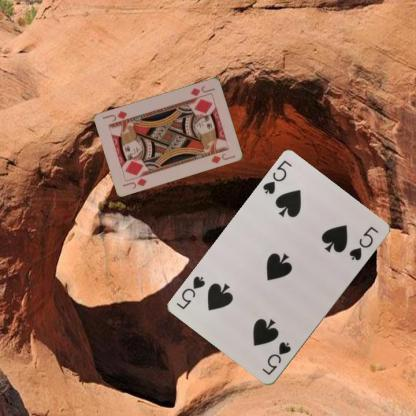5s: (260, 158, 294, 196), (260, 339, 292, 377)
Jd: (188, 82, 216, 98), (120, 175, 148, 190)
